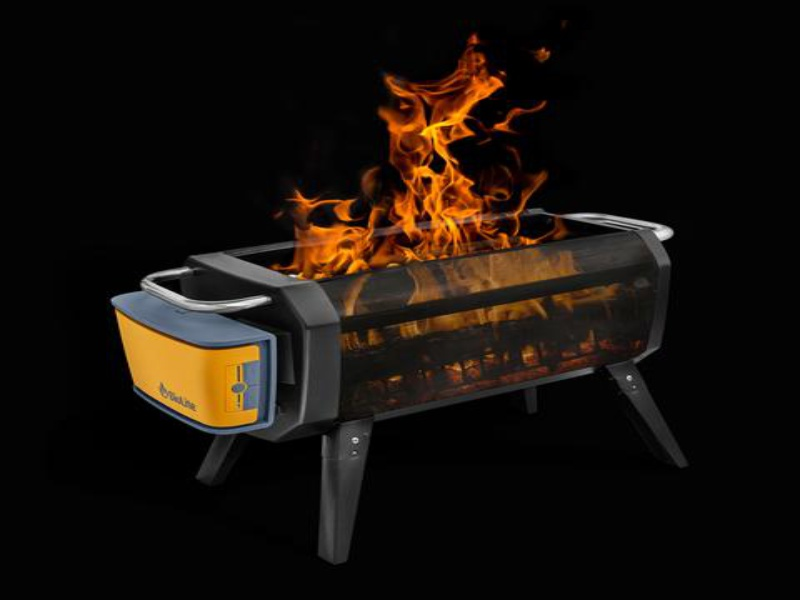fire: (306, 33, 554, 273), (347, 254, 583, 308)
